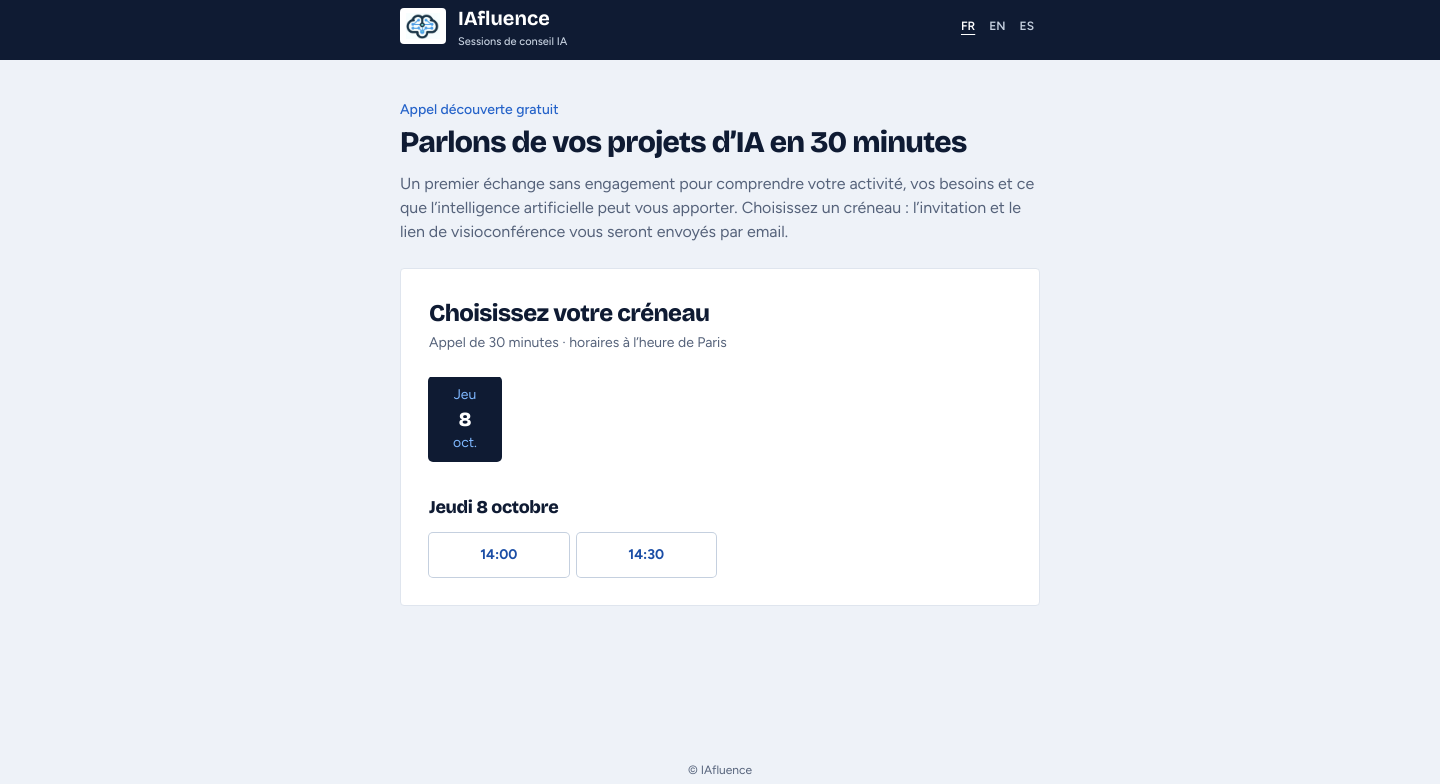
Scenario: Discovery › offers the NDA once its PDF is uploaded, and says it is on its way
Click the button "14:30": x=646, y=555 [576, 533, 716, 577]
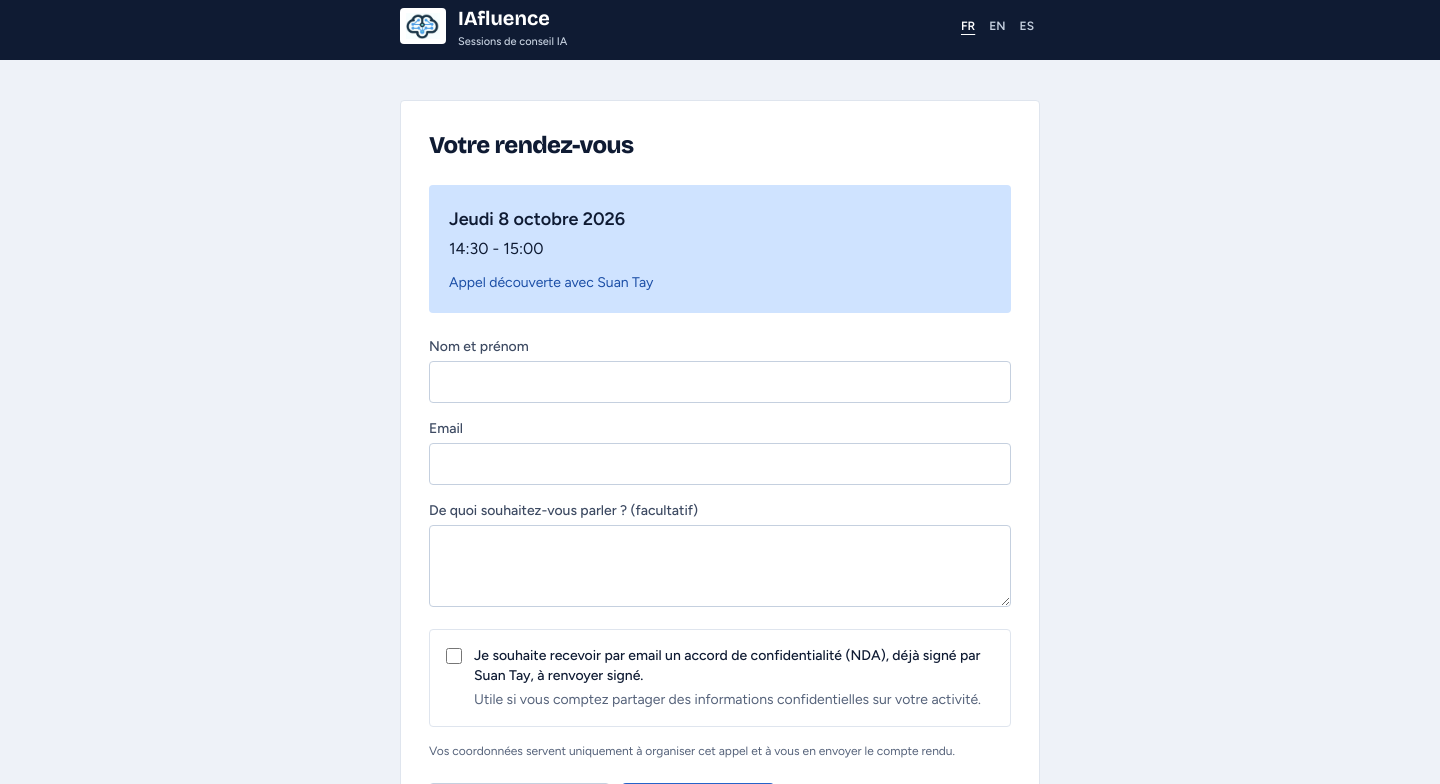
In the field labelled "Nom et prénom": x=720, y=382 [429, 361, 1011, 403], type "Paul Prospect"
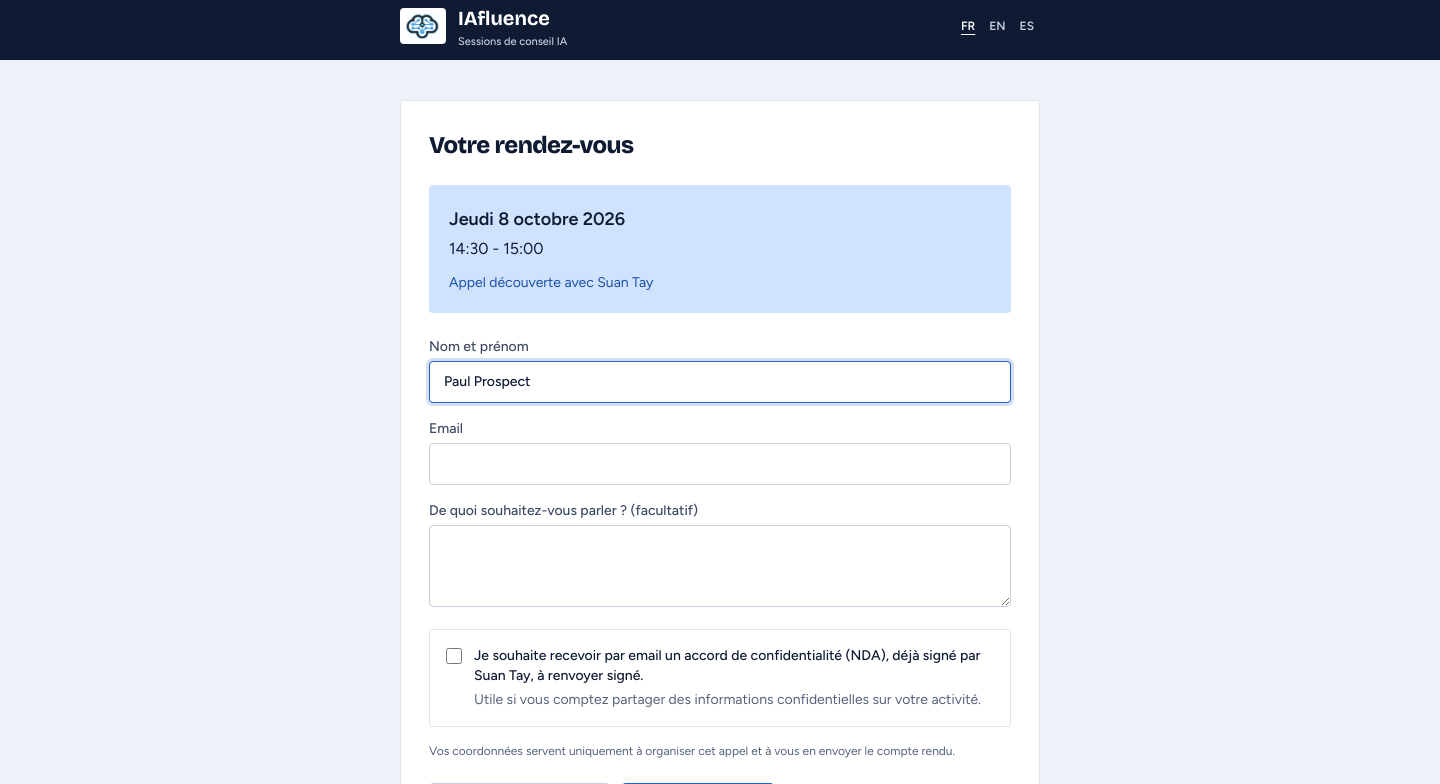
In the field labelled "Email": x=720, y=464 [429, 443, 1011, 485], type "paul@example.com"
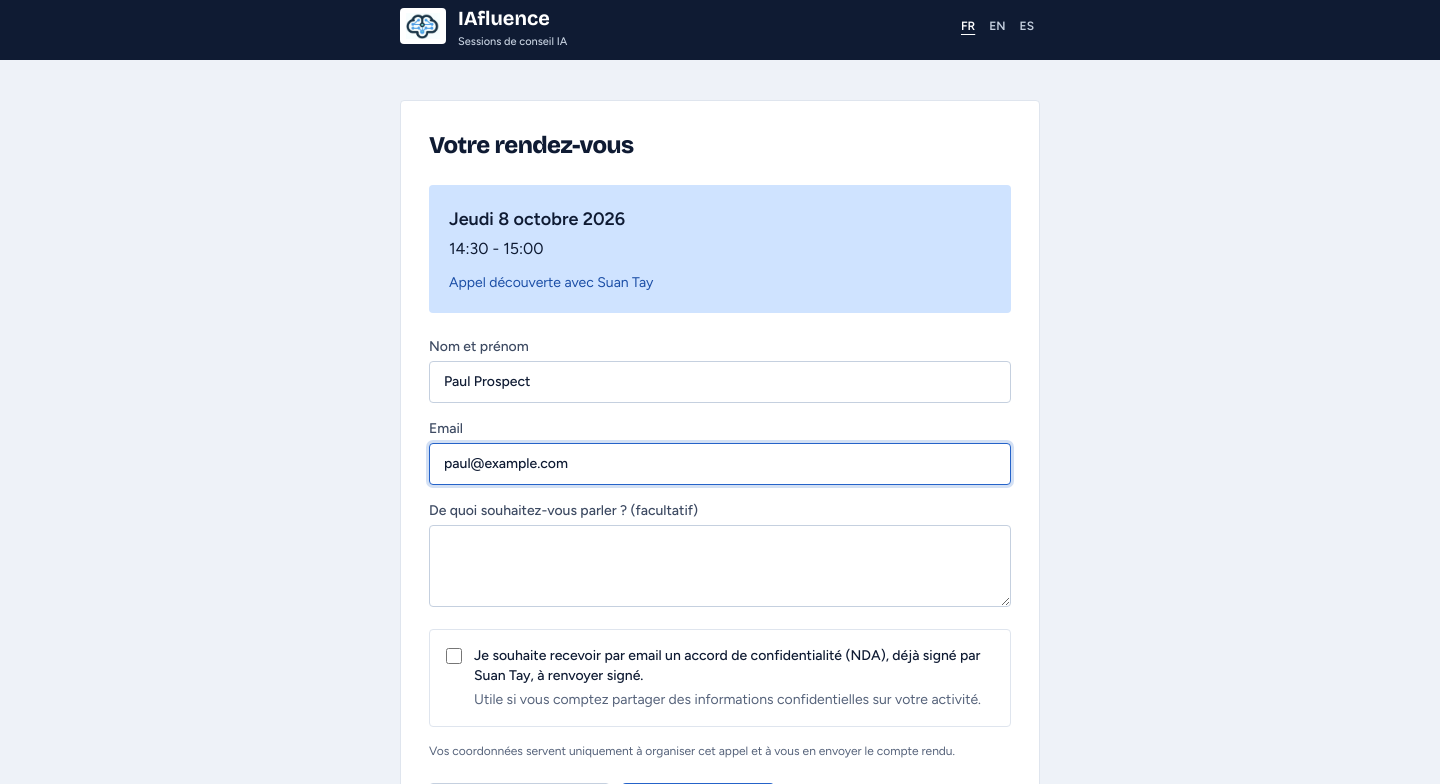
Check: the checkbox named "Je souhaite recevoir par email un accord de confidentialité (NDA), déjà signé par Suan Tay" is not checked
Click the checkbox named "Je souhaite recevoir par email un accord de confidentialité (NDA), déjà signé par Suan Tay": x=454, y=656 [446, 648, 462, 664]
(page scrolled)
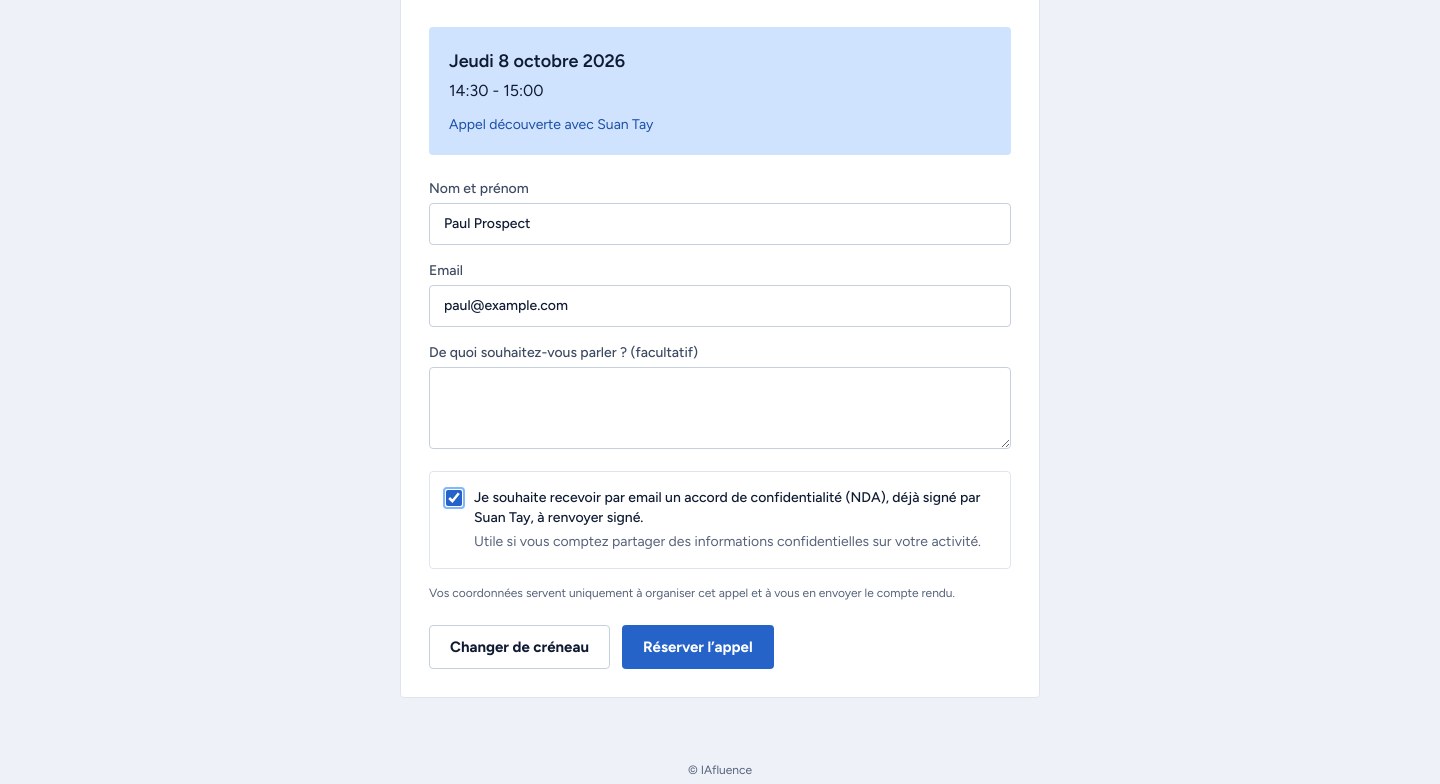
Click the button "Réserver l’appel": x=698, y=647 [622, 625, 774, 669]
(page scrolled)
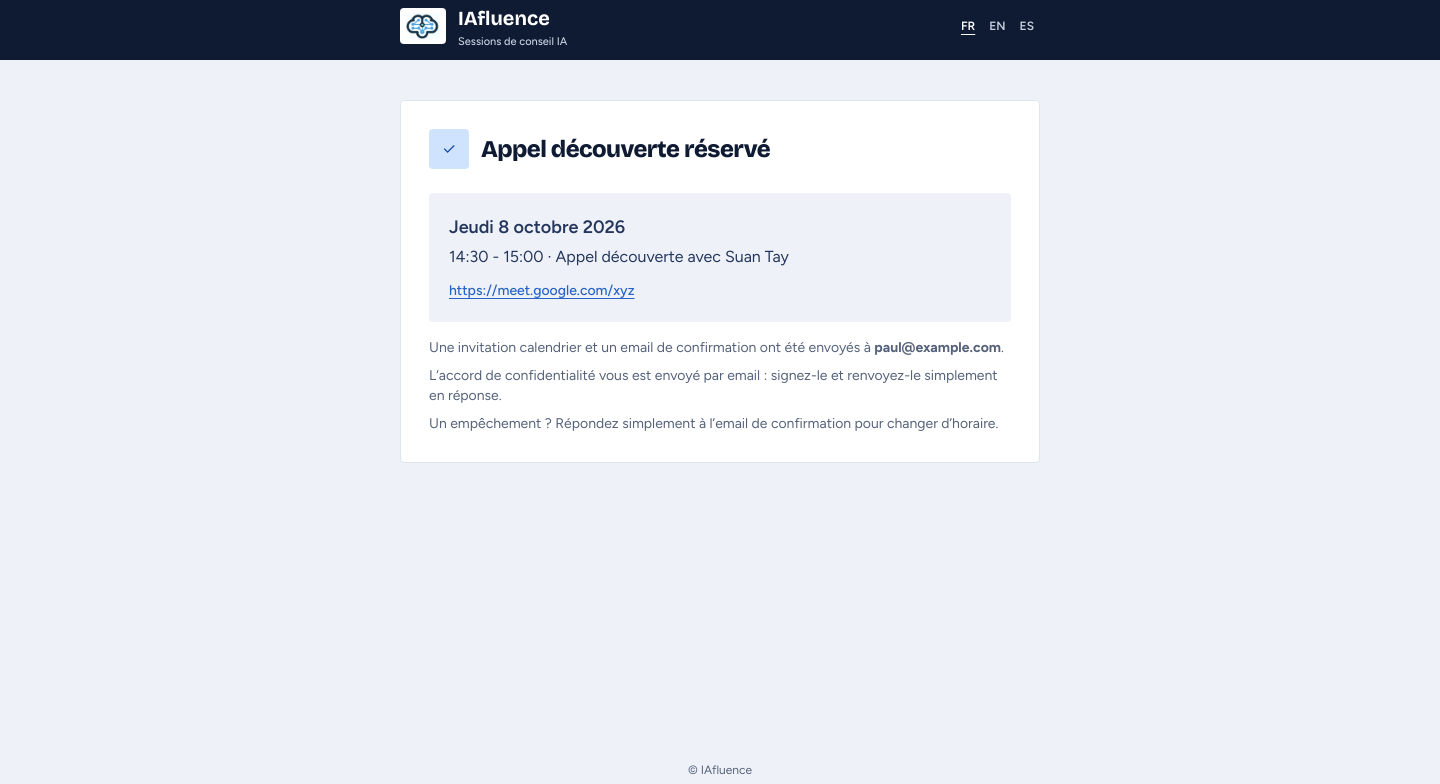
Check: the text "L’accord de confidentialité vous est envoyé par email : signez-le et renvoyez-le simplement en réponse." is shown, box [429, 367, 998, 404]
